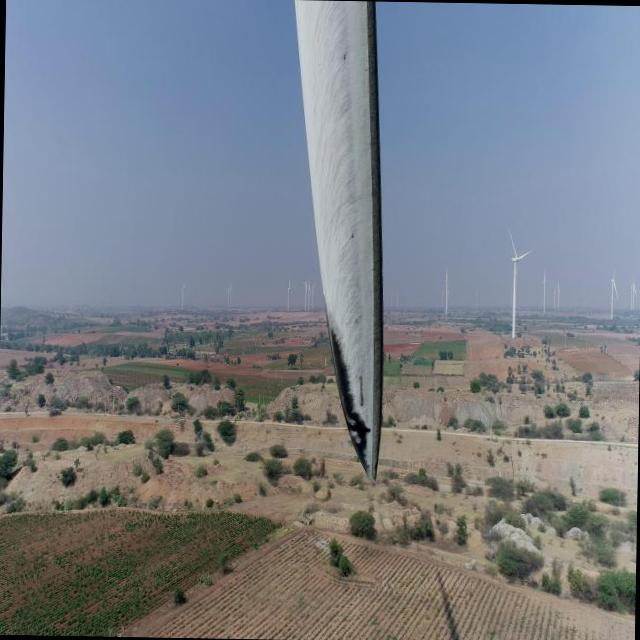Dirt: (293, 0, 385, 473)
Oil LEAKAGE: (330, 332, 372, 478)
Pin Hole: (363, 424, 373, 438)
